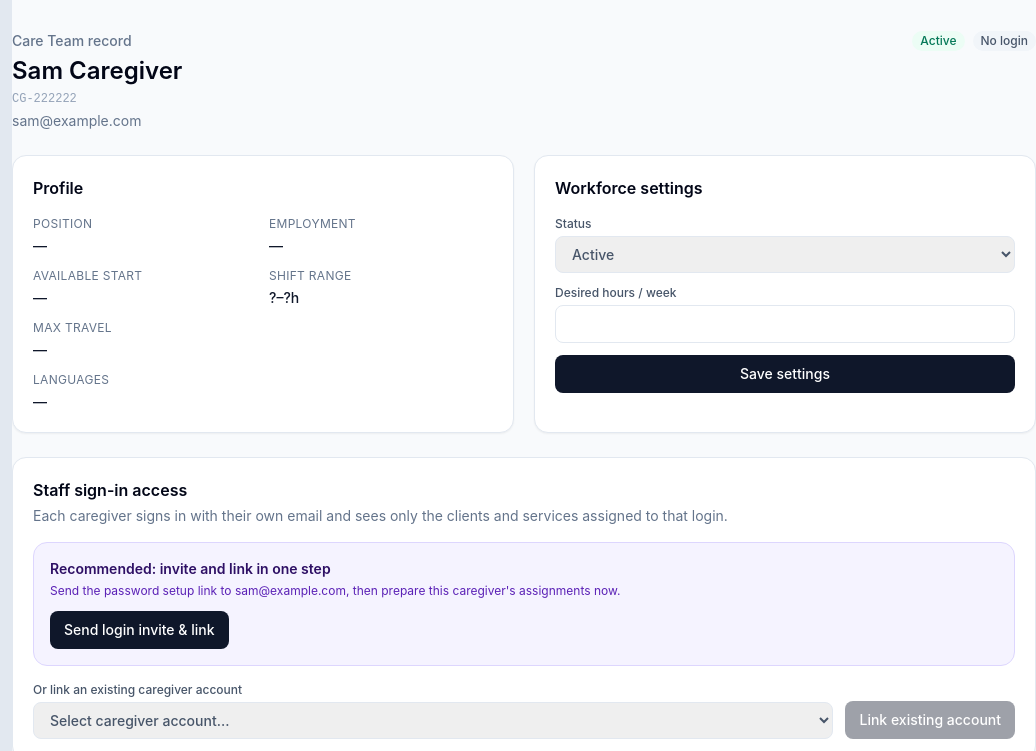
Test: CareTeamDetailPage visits and assignments › invites and links a caregiver login from the Care Team record
Click the button "Send login invite & link". click: (139, 630)
box: [50,611,228,649]
(page scrolled)
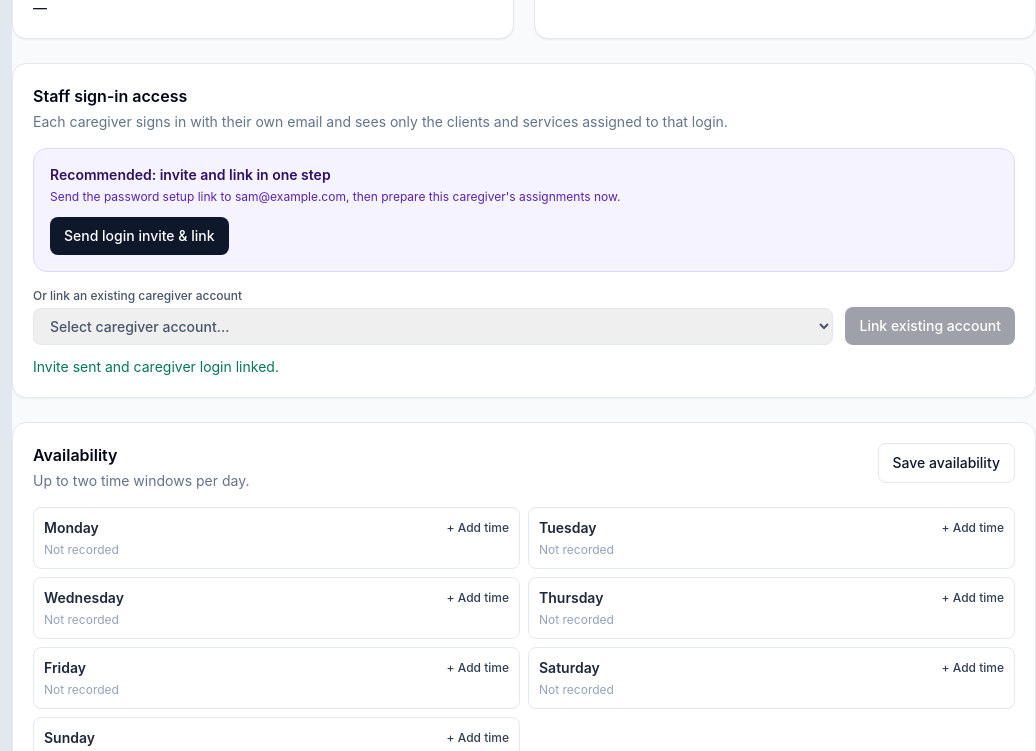
expect the text "Invite sent and caregiver login linked." is shown: met, box [33,358,279,375]
